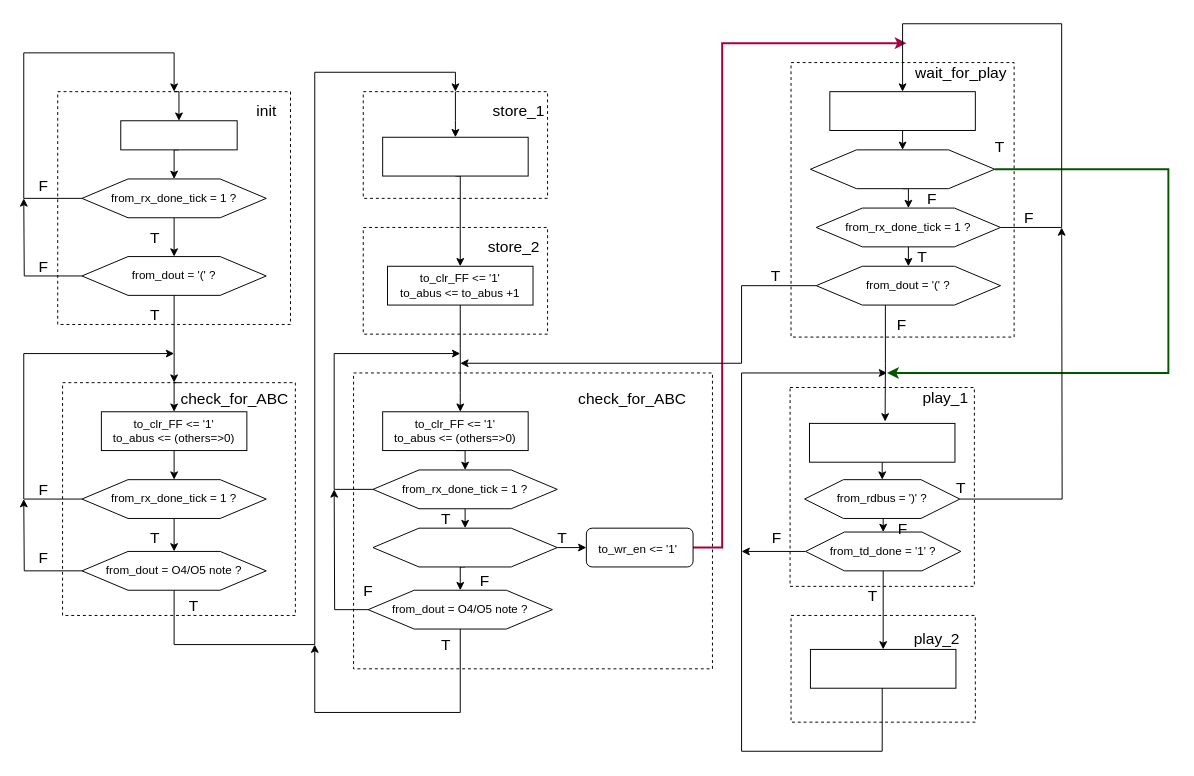
The diagram is 1194 pixels wide and 776 high, and some of its shapes have lost their labels. The box of each missing label's shape, as (x1, y1, x2, y2) in pixels:
from_dout = ')' ?: (372, 527, 557, 567)
from_play = 1 ?: (809, 149, 995, 189)
to_clr_FF <= '1': (120, 120, 237, 150)
to_clr_FF <= '1' to_abus <= (others => 0): (829, 91, 975, 130)
to_clr_FF <= '1' to_wr_en <= '1': (382, 136, 528, 176)
to_td_on <= '1': (808, 422, 955, 462)
to_td_on <= '1' to_abus <= to_abus +1: (809, 648, 956, 688)
